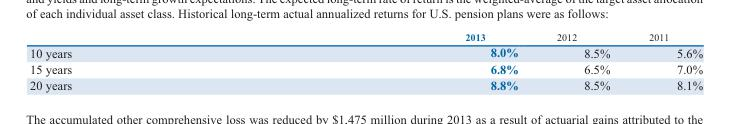table: (29, 29, 702, 93)
table column: (267, 29, 536, 93), (29, 29, 267, 93), (536, 29, 628, 93), (628, 29, 702, 93)
table column header: (29, 29, 702, 43)
table row: (29, 43, 702, 60), (29, 76, 702, 93), (29, 60, 702, 76), (29, 29, 702, 43)
